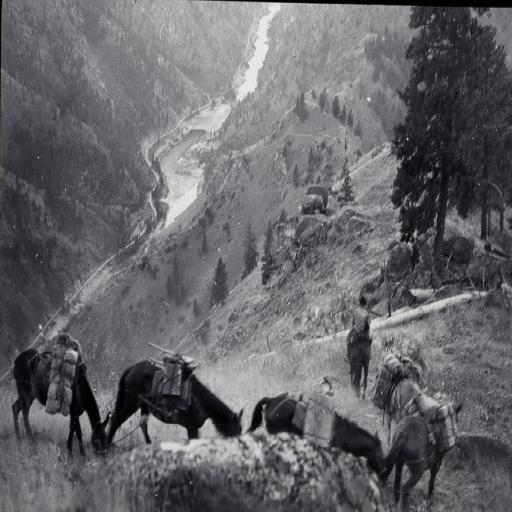horse: (11, 339, 98, 458), (347, 338, 372, 401)
